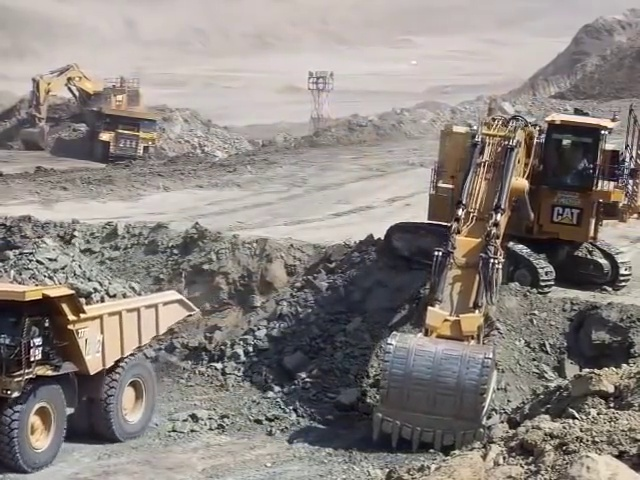dumper: (2, 280, 199, 475)
excavator: (373, 105, 640, 454), (22, 63, 157, 164)
